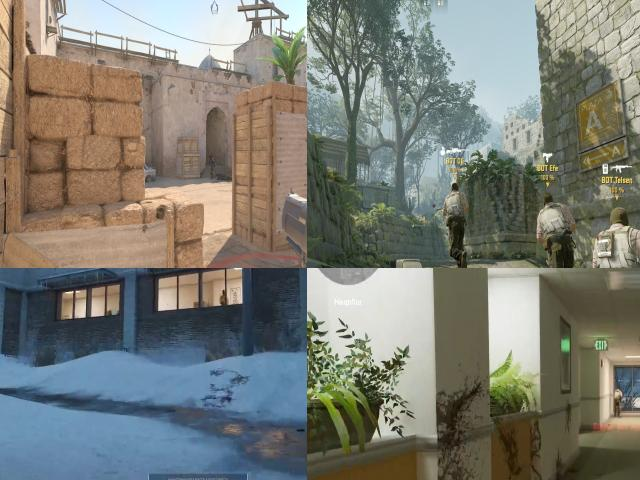Bomb: (595, 227, 621, 266)
CT: (210, 156, 214, 178)
CT-Head: (210, 156, 212, 159)
Dead: (215, 173, 230, 180)
T: (537, 190, 577, 268), (595, 200, 640, 268), (439, 180, 473, 268), (614, 384, 622, 410), (219, 289, 226, 305)
T-Head: (607, 202, 633, 232), (537, 192, 557, 211), (451, 182, 462, 196), (220, 288, 227, 295)
